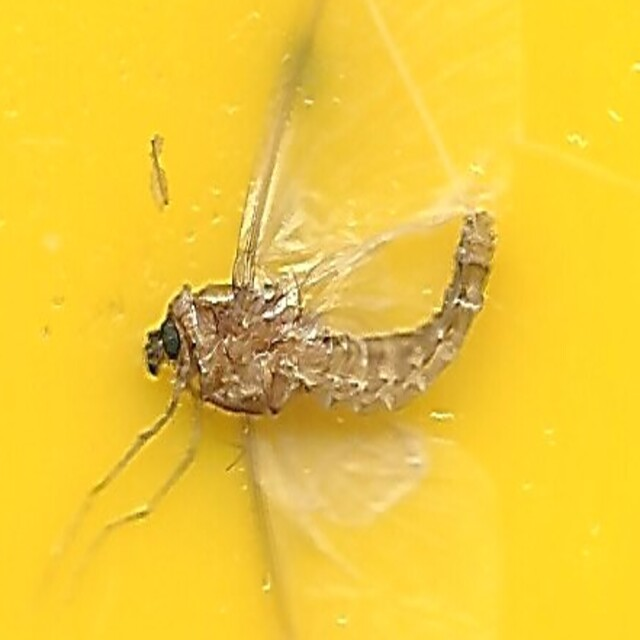Ephemeroptera: (145, 209, 495, 431)
